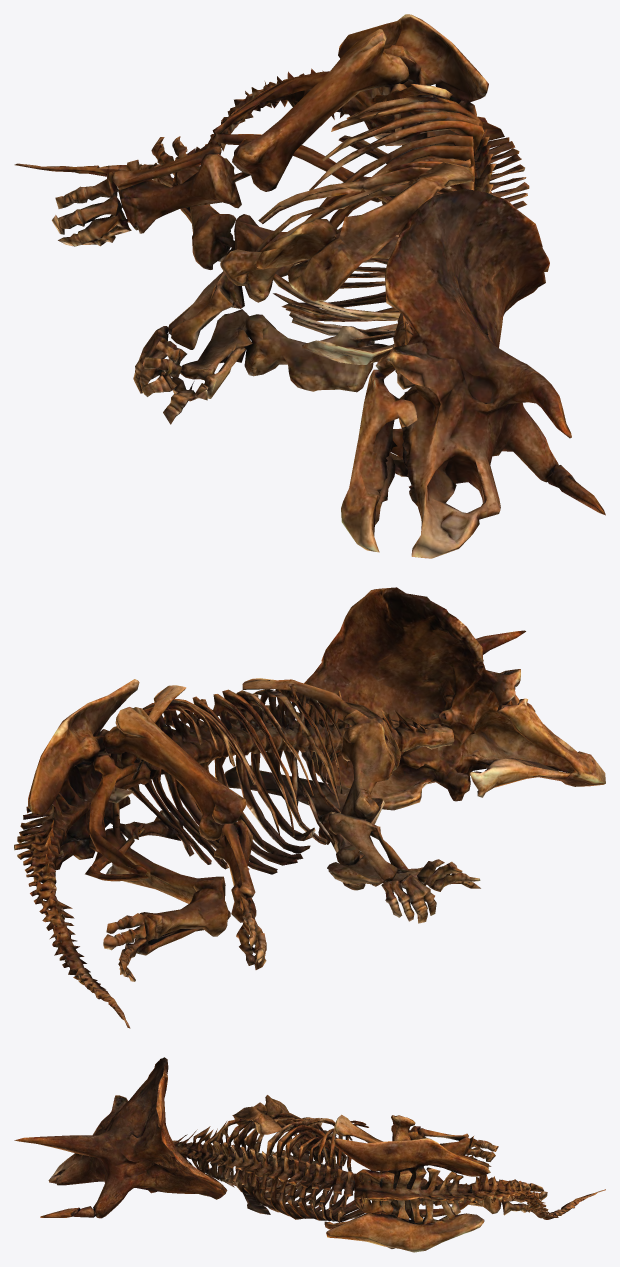
The model's file is triceratops.glb.
3 views of the same model, one above another, from view 1: azimuth 30°, elevation 25°; view 2: azimuth 150°, elevation 25°; view 3: azimuth 270°, elevation 25° (orthographic). The views are drawn at different scales.
Bounding box in the file's own units: 2.8 × 1.65 × 5.89.
Materials: 1 (1 with a texture image).
